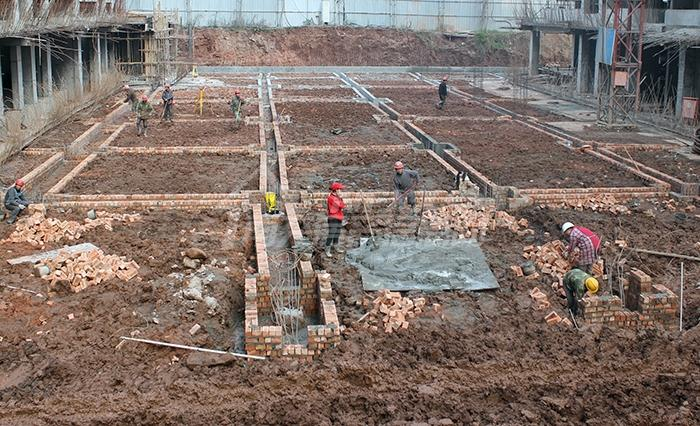helmet: (586, 279, 600, 293), (563, 222, 575, 234), (394, 162, 405, 170), (16, 180, 26, 188), (125, 85, 131, 91), (143, 97, 148, 104), (444, 77, 450, 82), (236, 90, 242, 95), (166, 85, 171, 89)
